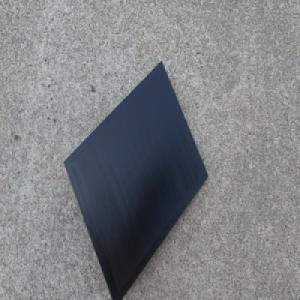PlasticPart: (62, 59, 208, 300)
